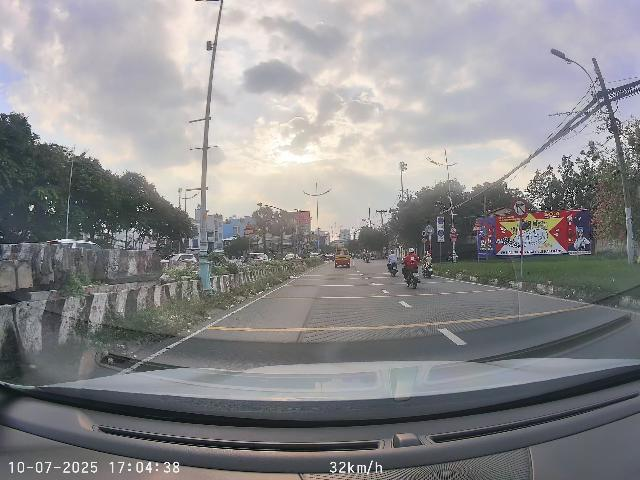123b-cam-re-phai: (512, 199, 528, 217)
